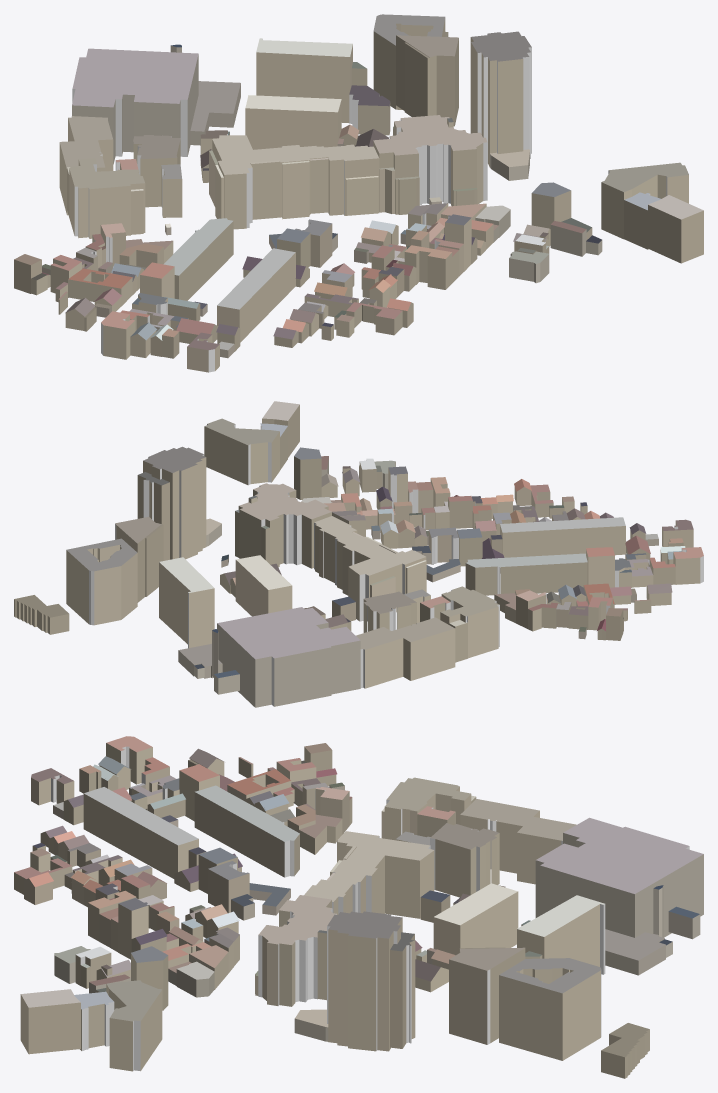
The picture shows the model from 3 angles, top to bottom: view 1: azimuth 30°, elevation 25°; view 2: azimuth 150°, elevation 25°; view 3: azimuth 270°, elevation 25°; orthographic projection. The views are drawn at different scales.
Visible parts, largest first — view 1: tuile; view 2: tuile; view 3: tuile.
Boxes of the visible parts, x1,y1,x2,y2 form: tuile: [14, 14, 703, 372]; tuile: [14, 401, 703, 707]; tuile: [14, 736, 703, 1078].
Bounding box in the file's own units: 274 × 51.23 × 264.
